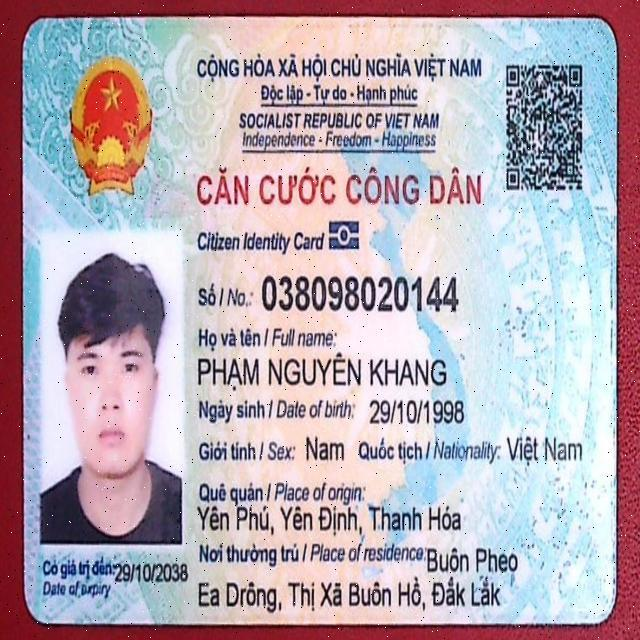current_place: (198, 572, 507, 613), (422, 540, 520, 577)
dob: (368, 396, 466, 427)
expire_date: (113, 561, 191, 584)
gender: (304, 431, 347, 465)
id: (259, 269, 459, 315)
name: (195, 352, 448, 391)
nationality: (504, 431, 587, 465)
origin_place: (196, 503, 465, 541)
qr: (500, 50, 593, 206)
